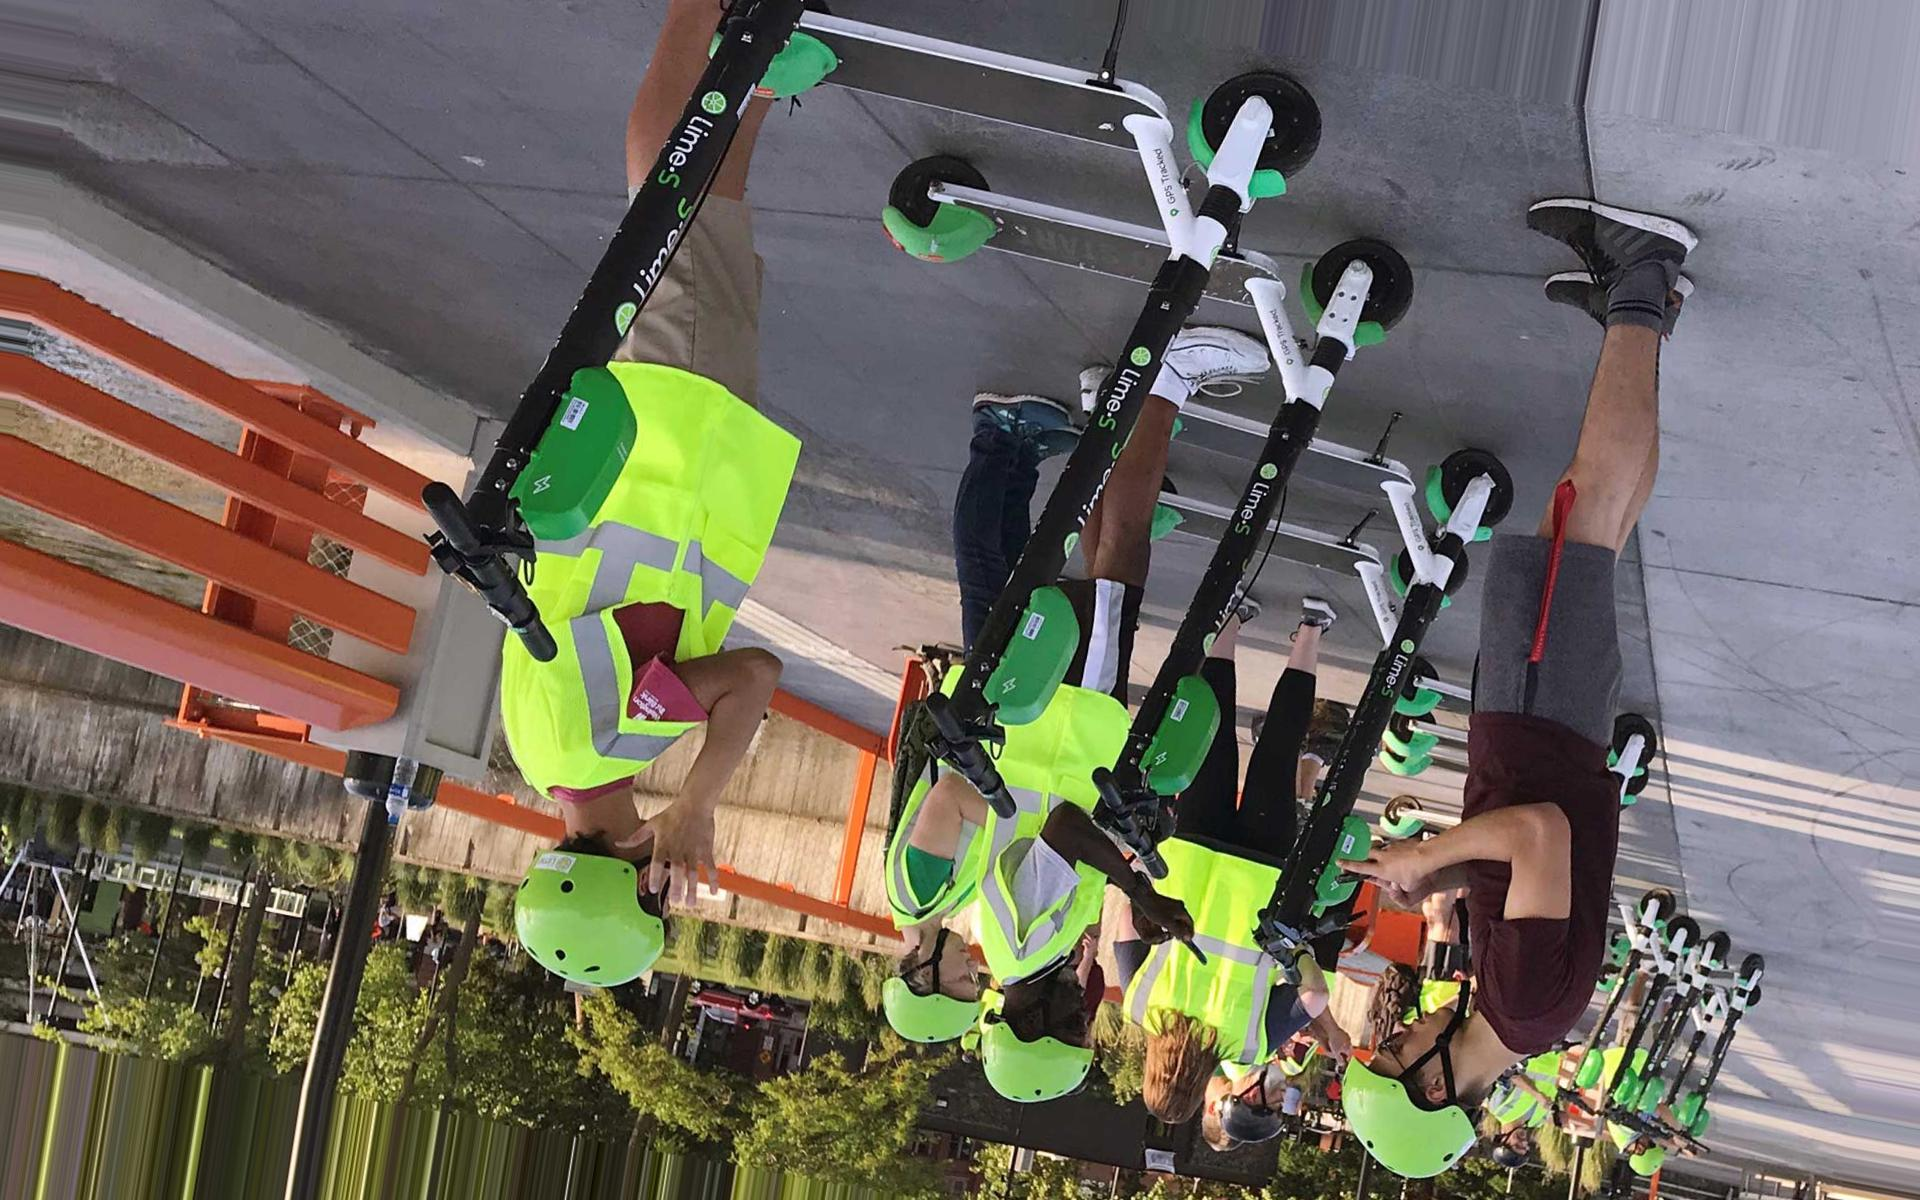with helmet: (511, 816, 677, 984), (1344, 1004, 1478, 1178), (979, 966, 1100, 1106), (883, 926, 986, 1044)
